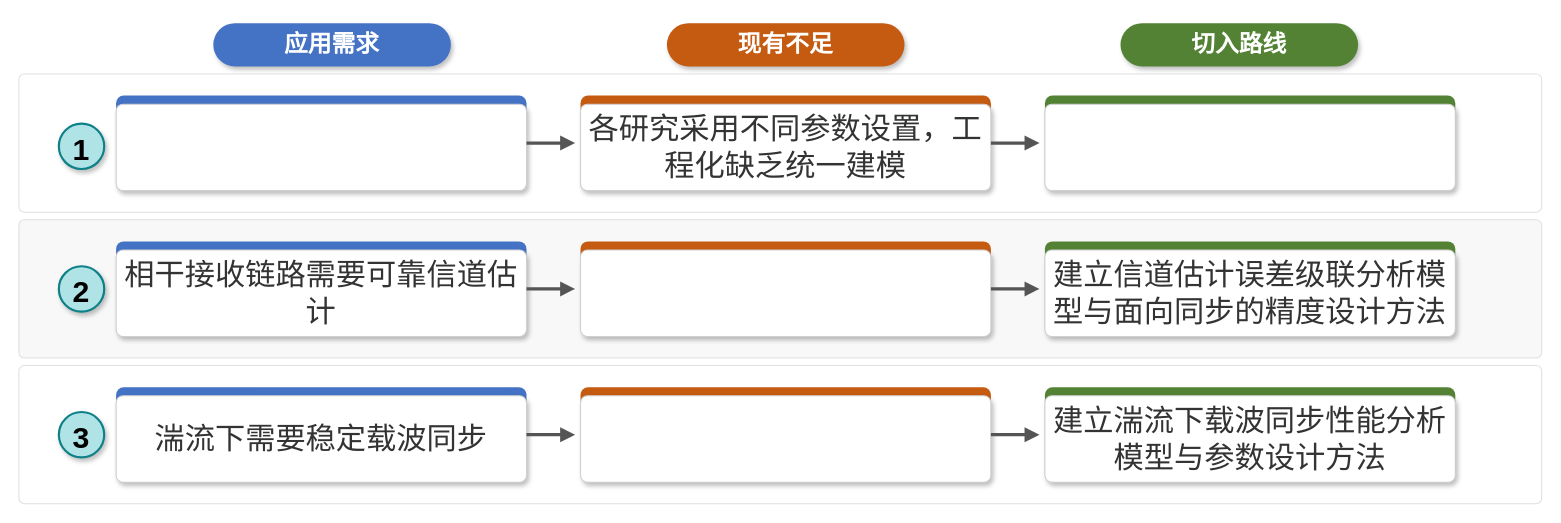
The diagram is 1561 pixels wide and 523 high, and some of its shapes have lost their labels. The centre of each missing label's shape, as x and y in pixels:
"估计误差对同步性能的级联影响缺乏量化分析" belongs at point 786,294.
"建立星地 FSO 系统与湍流信道统一模型" belongs at point 1251,148.
"星地FSO链路需要统一的系统与信道参数量化" belongs at point 322,148.
"经典同步方法在湍流下的性能边界与参数设计不完善" belongs at point 786,440.
